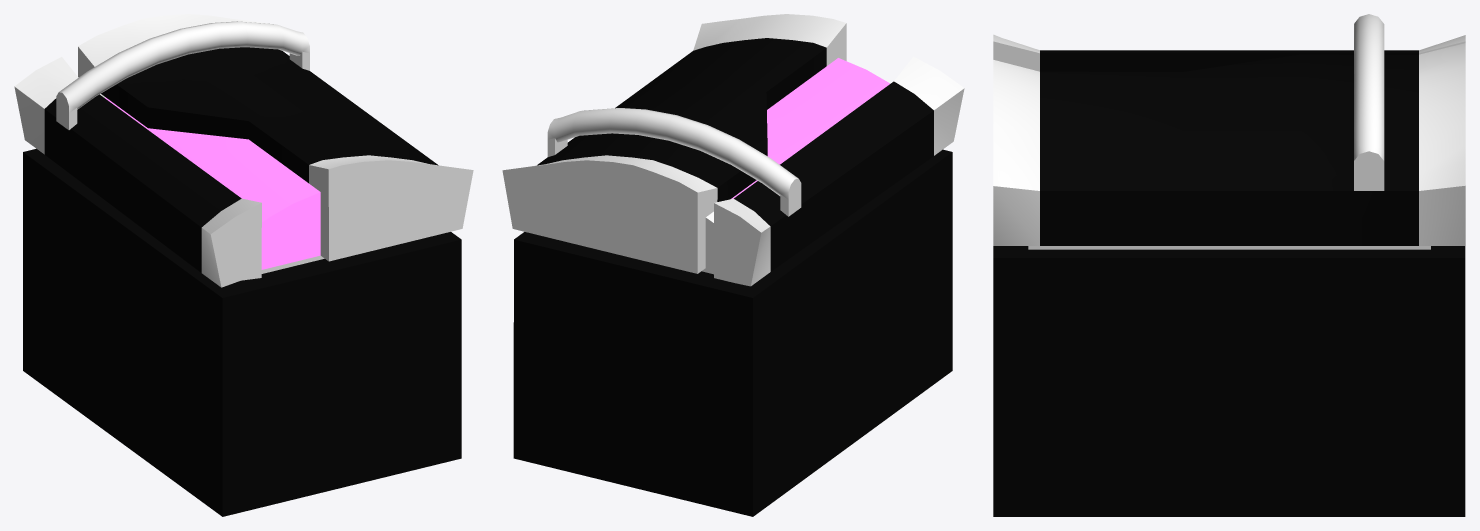
Rendered from BP_fridge_low.fbx.
3 views of the same model, side by side, from view 1: azimuth 30°, elevation 25°; view 2: azimuth 150°, elevation 25°; view 3: azimuth 270°, elevation 25° (orthographic). The views are drawn at different scales.
Visible parts, largest first — view 1: base_low001; view 2: base_low001; view 3: base_low001.
Boxes of the visible parts, x1,y1,x2,y2 form: base_low001: (14, 14, 473, 516); base_low001: (502, 14, 964, 516); base_low001: (993, 14, 1465, 516).
Bounding box in the file's own units: 48.06 × 59.73 × 63.28.
